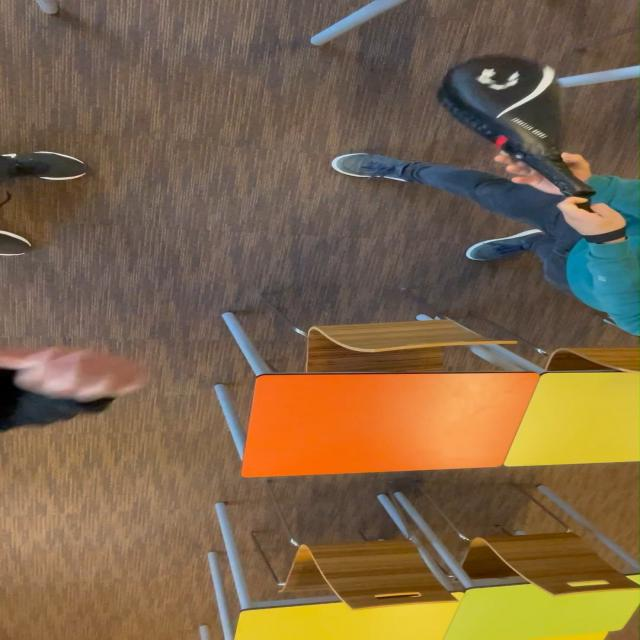paddle: (450, 59, 575, 155)
